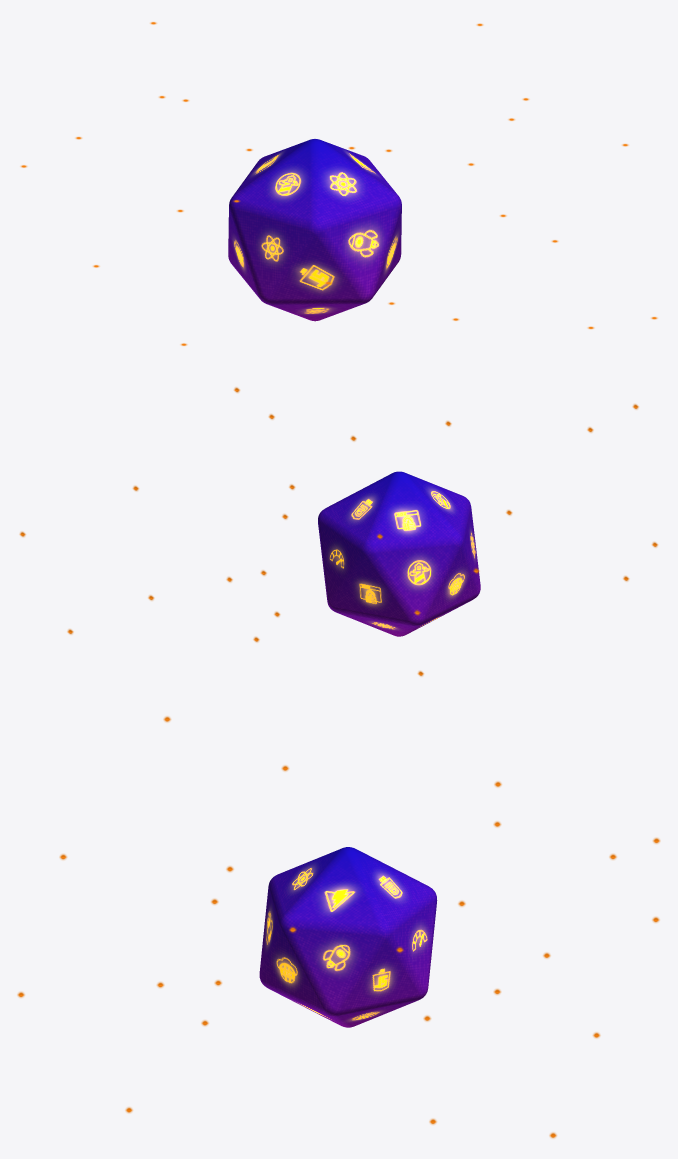
3 renders of one model, top to bottom at view 1: azimuth 30°, elevation 25°; view 2: azimuth 150°, elevation 25°; view 3: azimuth 270°, elevation 25°, orthographic. The views are drawn at different scales.
Visible parts, largest first — view 1: polySurface92.030; view 2: polySurface92.030, Plane.004_ground_0; view 3: polySurface92.030, Plane.004_ground_0.
Part boxes in pixels (bbox=[...]): polySurface92.030: bbox=[228, 139, 401, 321]; polySurface92.030: bbox=[318, 471, 480, 636]; Plane.004_ground_0: bbox=[19, 387, 657, 676]; polySurface92.030: bbox=[259, 847, 437, 1027]; Plane.004_ground_0: bbox=[17, 716, 660, 1138].
Bounding box in the file's own units: 6.2 × 2.49 × 6.36.
2 materials, 2 textured.
